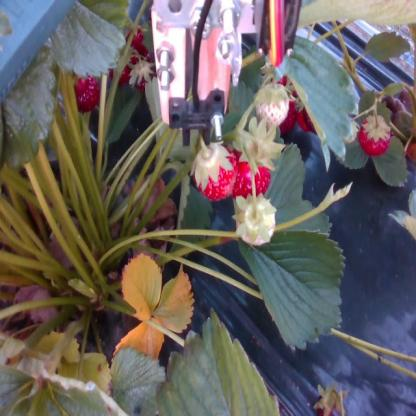ripe: (192, 150, 236, 200), (236, 155, 268, 193), (75, 74, 101, 114), (362, 117, 390, 153), (298, 98, 321, 133), (135, 60, 154, 92), (112, 57, 132, 84)
unripe: (238, 196, 273, 243), (255, 85, 289, 127)
